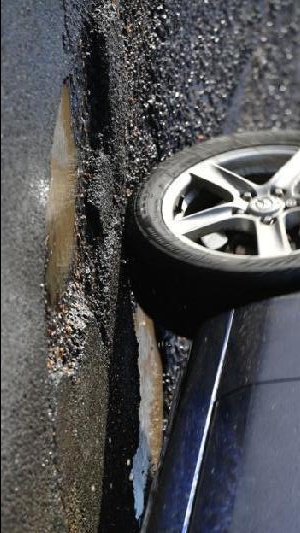pothole: (39, 21, 115, 383)
